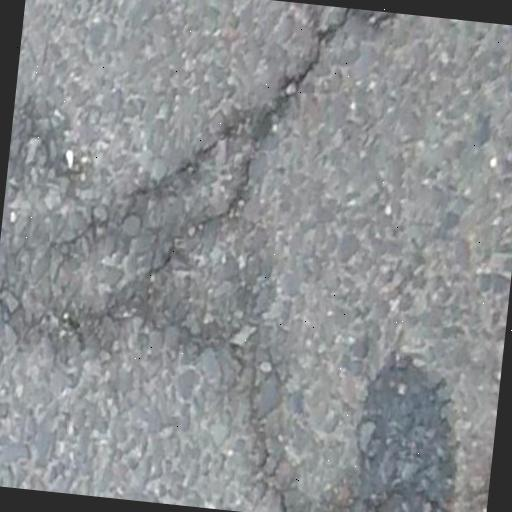spalling: (59, 7, 366, 284), (238, 369, 297, 512)
